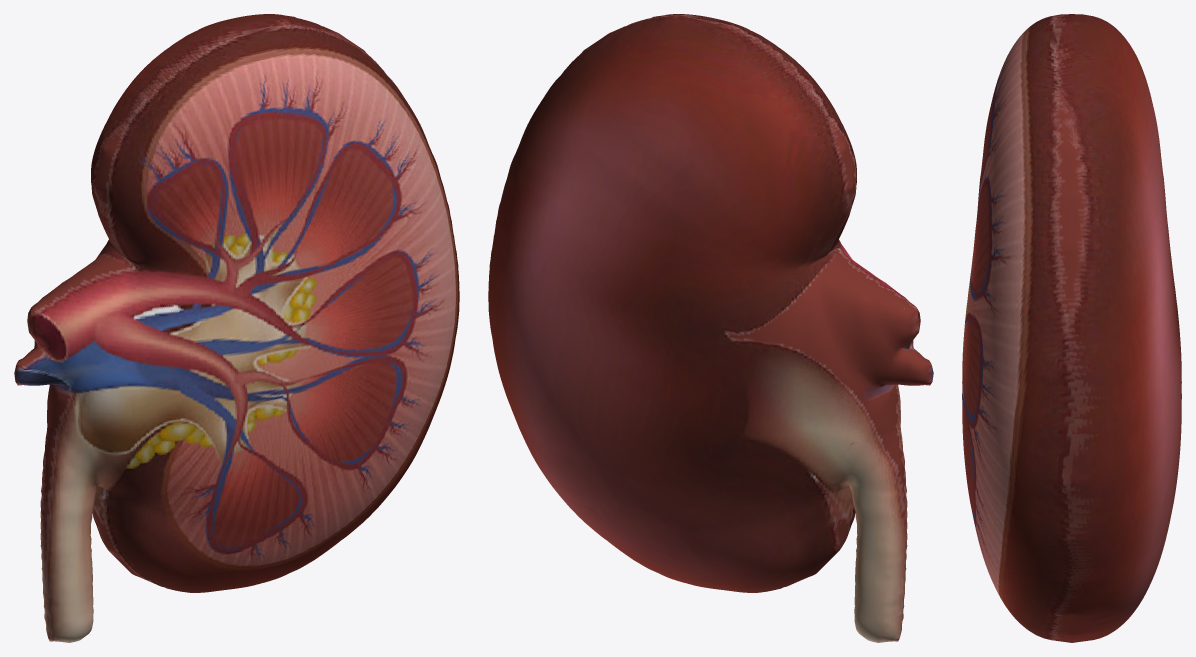
The model's file is kidney.fbx.
3 views of the same model, side by side, from view 1: azimuth 30°, elevation 25°; view 2: azimuth 150°, elevation 25°; view 3: azimuth 270°, elevation 25° (orthographic). The views are drawn at different scales.
Parts seen in each view (by area): view 1: root; view 2: root; view 3: root.
Boxes of the visible parts, x1,y1,x2,y2 form: root: [14, 14, 459, 642]; root: [488, 14, 933, 642]; root: [962, 14, 1181, 642].
Bounding box in the file's own units: 0.2925 × 0.3708 × 0.1196.
Materials: 1 (1 with a texture image).
